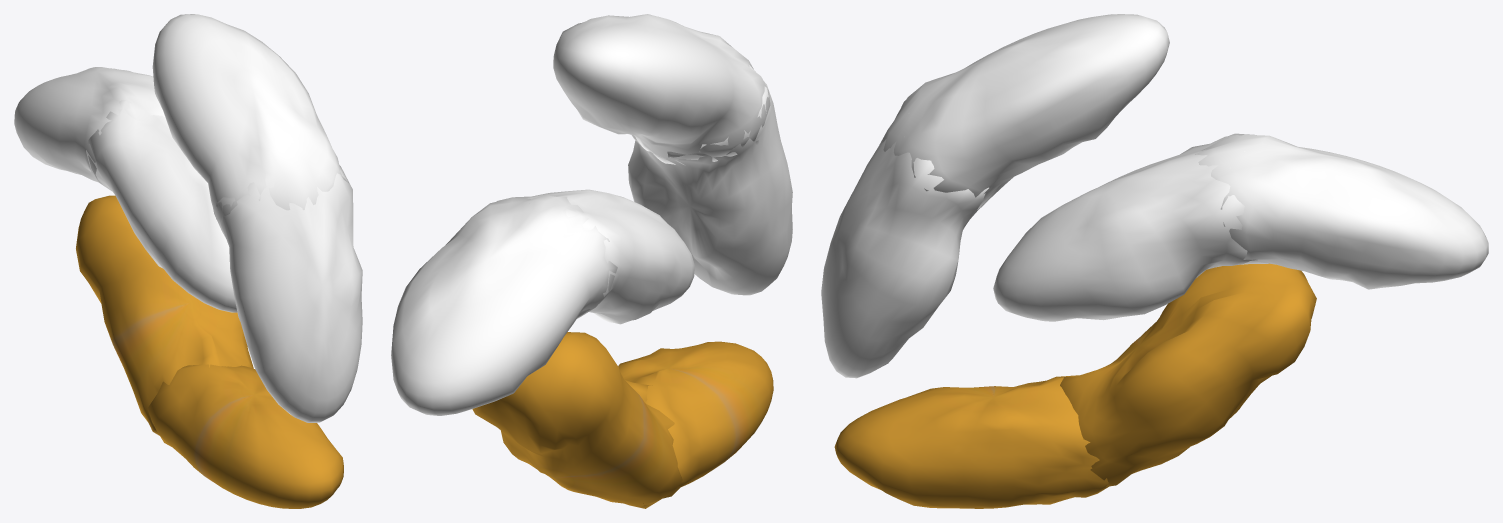
File: yupiamarillo.glb
3 views of the same model, side by side, from view 1: azimuth 30°, elevation 25°; view 2: azimuth 150°, elevation 25°; view 3: azimuth 270°, elevation 25° (orthographic). The views are drawn at different scales.
Visible parts, largest first — view 1: Esfera.002, Esfera.001, Esfera.003; view 2: Esfera.003, Esfera.002, Esfera.001; view 3: Esfera.001, Esfera.003, Esfera.002.
Boxes of the visible parts, x1=… form: Esfera.002: x1=152, y1=14, x2=362, y2=422; Esfera.001: x1=76, y1=195, x2=343, y2=508; Esfera.003: x1=14, y1=67, x2=237, y2=312; Esfera.003: x1=391, y1=189, x2=694, y2=415; Esfera.002: x1=553, y1=14, x2=792, y2=295; Esfera.001: x1=472, y1=332, x2=773, y2=508; Esfera.001: x1=834, y1=263, x2=1316, y2=508; Esfera.003: x1=993, y1=133, x2=1488, y2=321; Esfera.002: x1=821, y1=14, x2=1169, y2=378.
Size of the model in its own units: 2.37 by 7.46 by 9.39.
3 materials, 1 textured.
